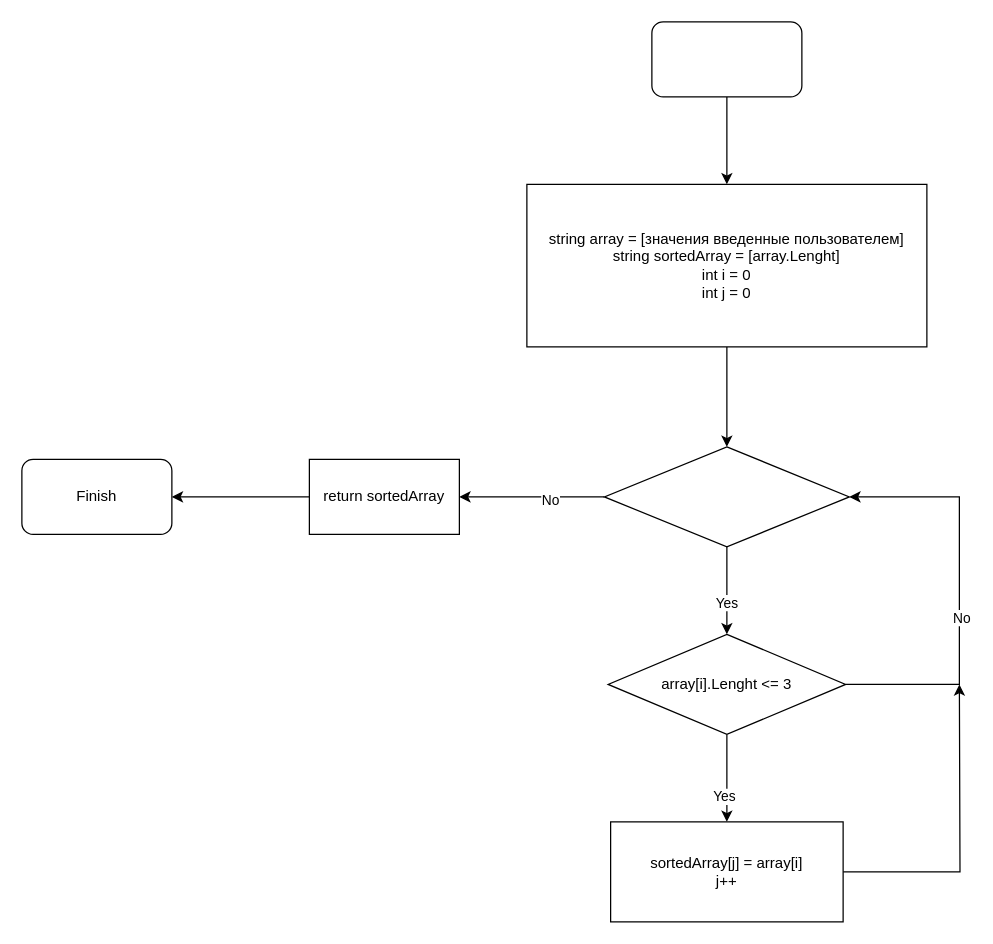
This 993x944 diagram has some shape labels left out. The shapes that lost their labels are listed below. From the top down, each one's centre as x and y in pixels, then its label:
point (726, 59): Start
point (726, 496): i < array.Lenght
